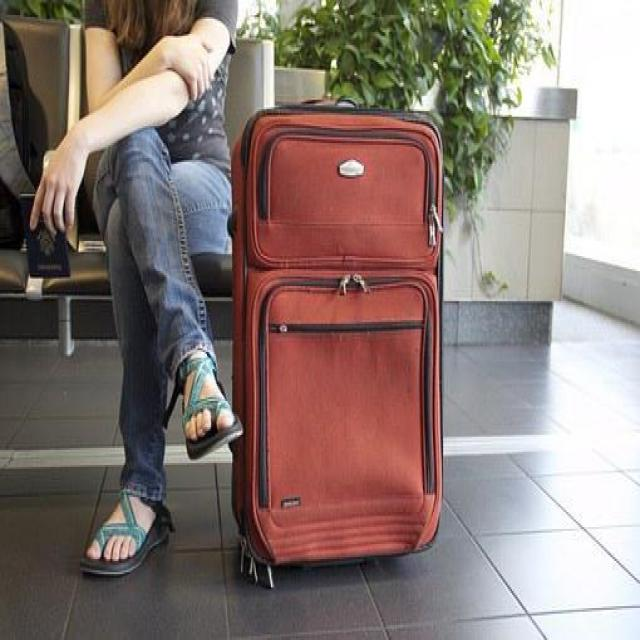luggage: (222, 89, 451, 583)
